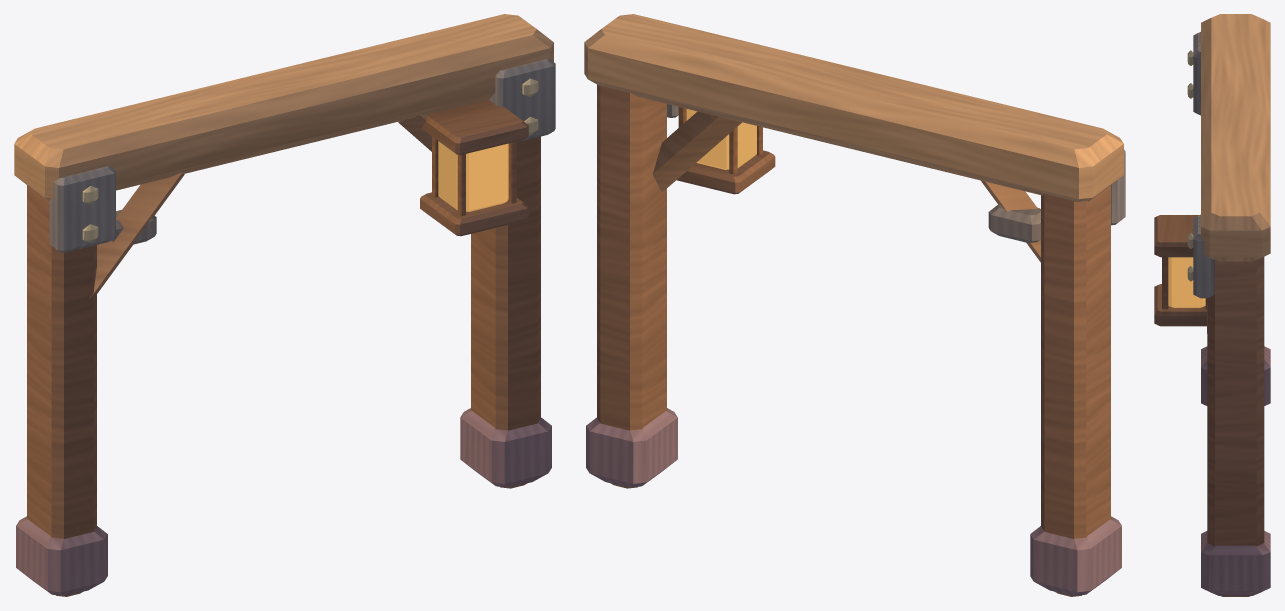
The model's file is mine_support.glb.
3 views of the same model, side by side, from view 1: azimuth 30°, elevation 25°; view 2: azimuth 150°, elevation 25°; view 3: azimuth 270°, elevation 25° (orthographic). The views are drawn at different scales.
Parts seen in each view (by area): view 1: Minensohle · Streckenbogen; view 2: Minensohle · Streckenbogen; view 3: Minensohle · Streckenbogen.
Boxes of the visible parts, <box> form: Minensohle · Streckenbogen: <box>14,14,555,596</box>; Minensohle · Streckenbogen: <box>584,14,1125,596</box>; Minensohle · Streckenbogen: <box>1154,14,1270,596</box>.
Size of the model in its own units: 2.36 by 2 by 0.55.
Materials: 3 (2 with a texture image).
